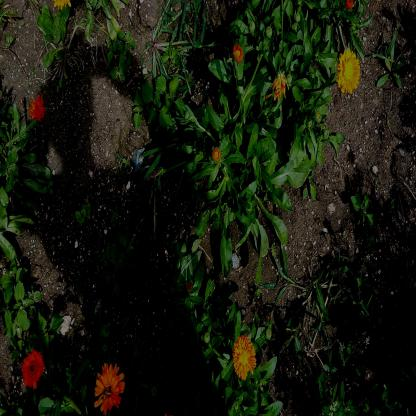marigold: (94, 360, 126, 416), (232, 334, 257, 382), (337, 48, 360, 94), (21, 348, 45, 388)
